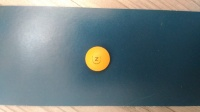Nurofen: (84, 45, 113, 73)
